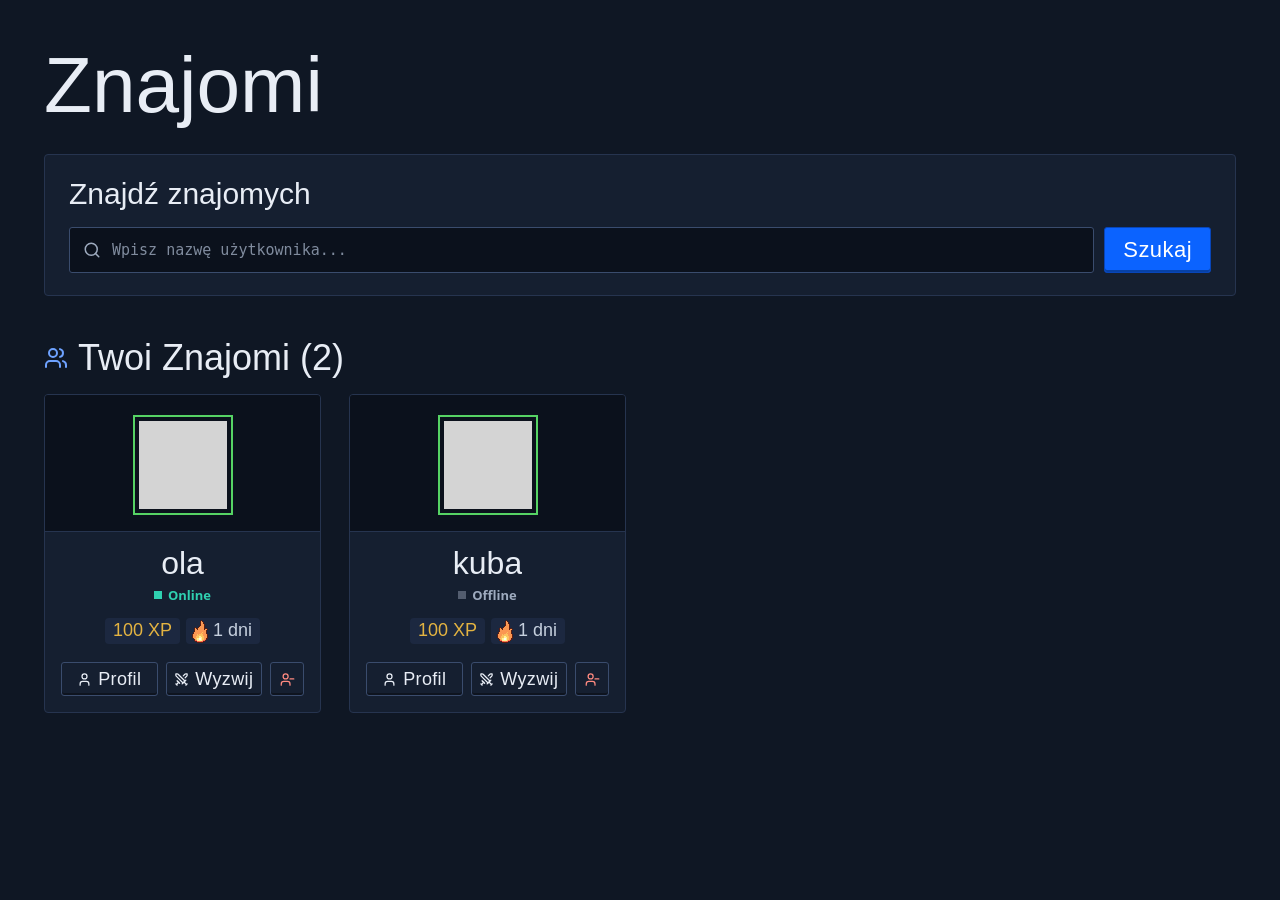
Test: friends page › searches users and sends a friend request
This screenshot has width=1280, height=900.
Type "no" into the field with placeholder "Wpisz nazwę użytkownika..." at point(582, 250), box [69, 228, 1094, 274]
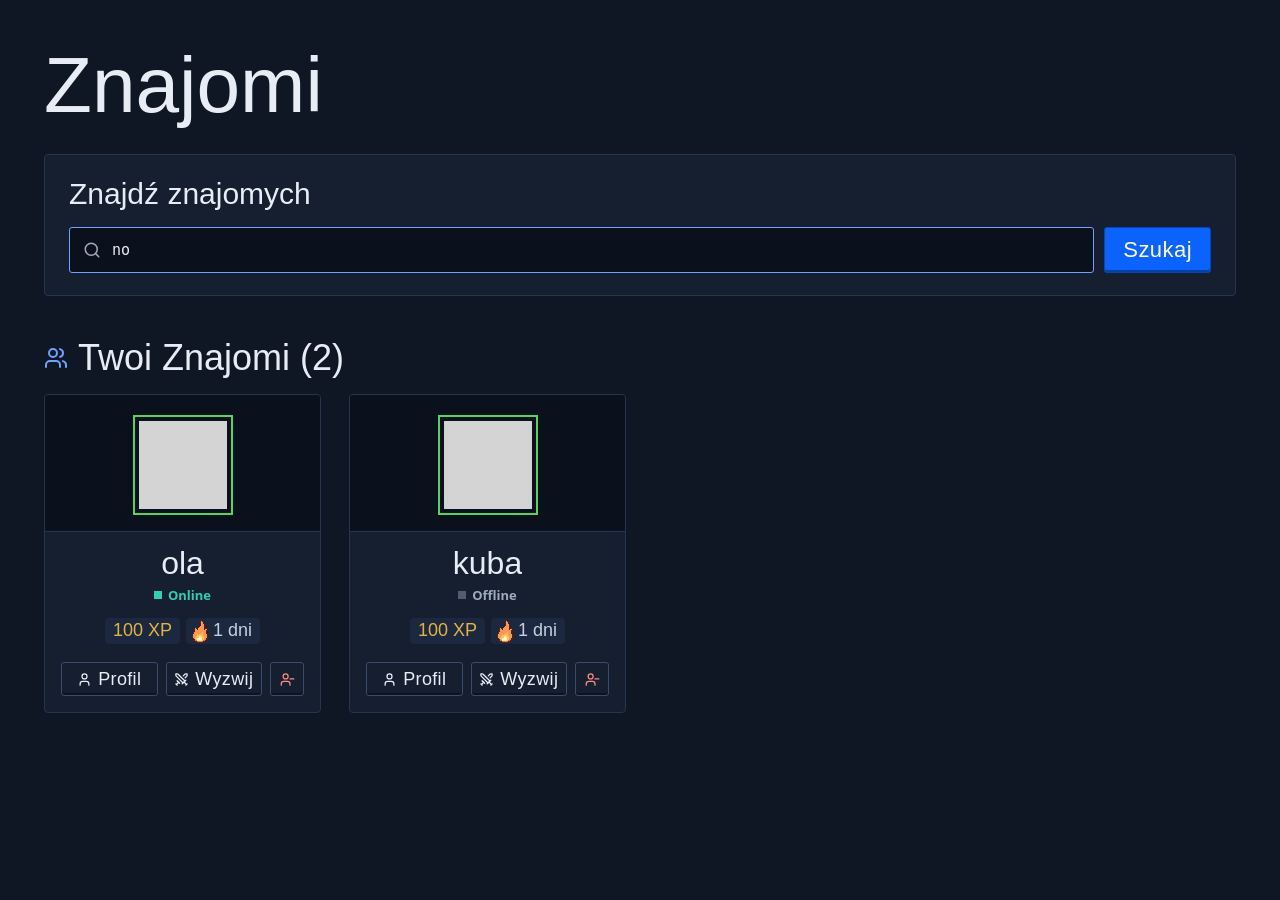
Click the button "Szukaj" at point(1158, 250), box [1104, 228, 1211, 274]
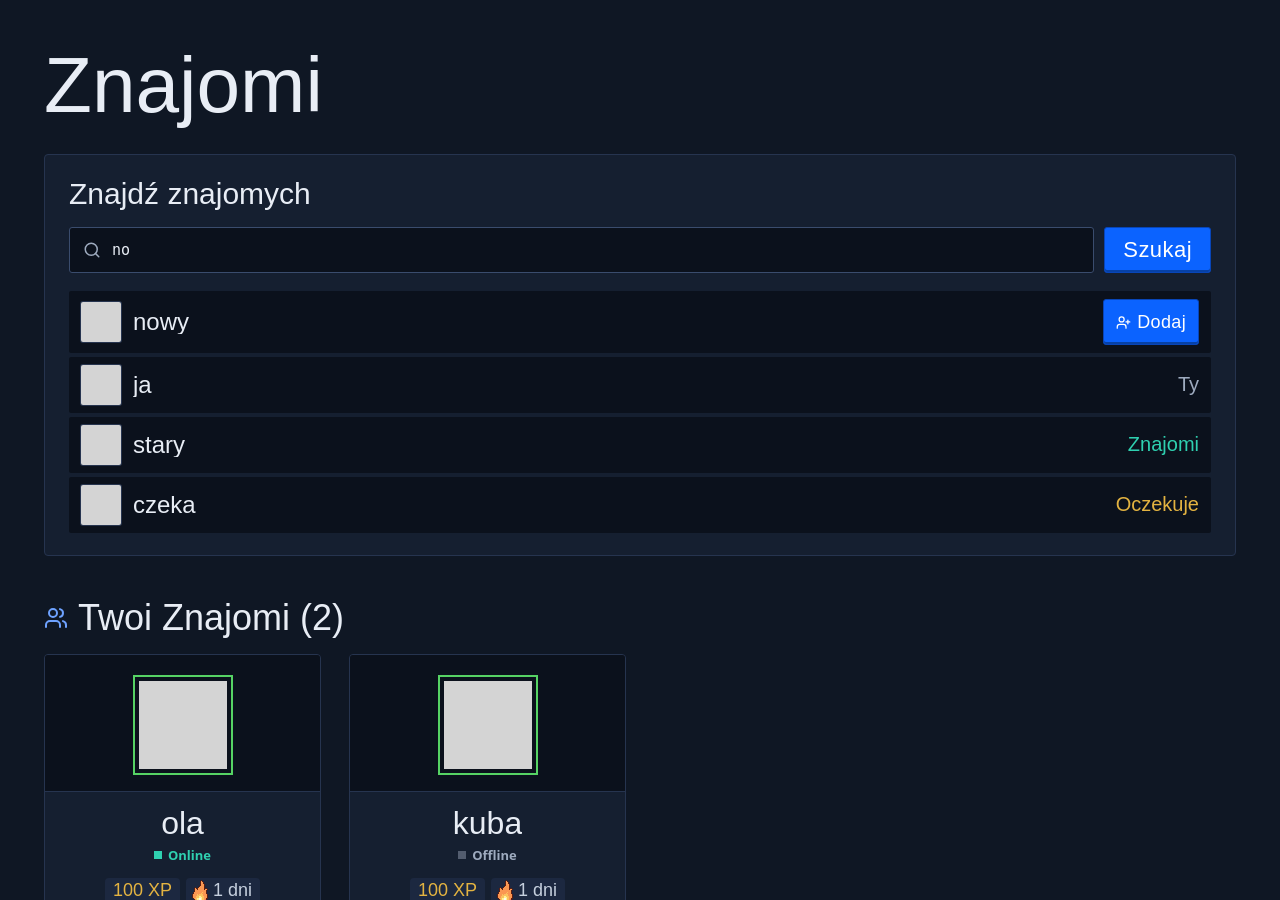
Click the button "Dodaj" at point(1151, 322), box [1103, 300, 1199, 346]
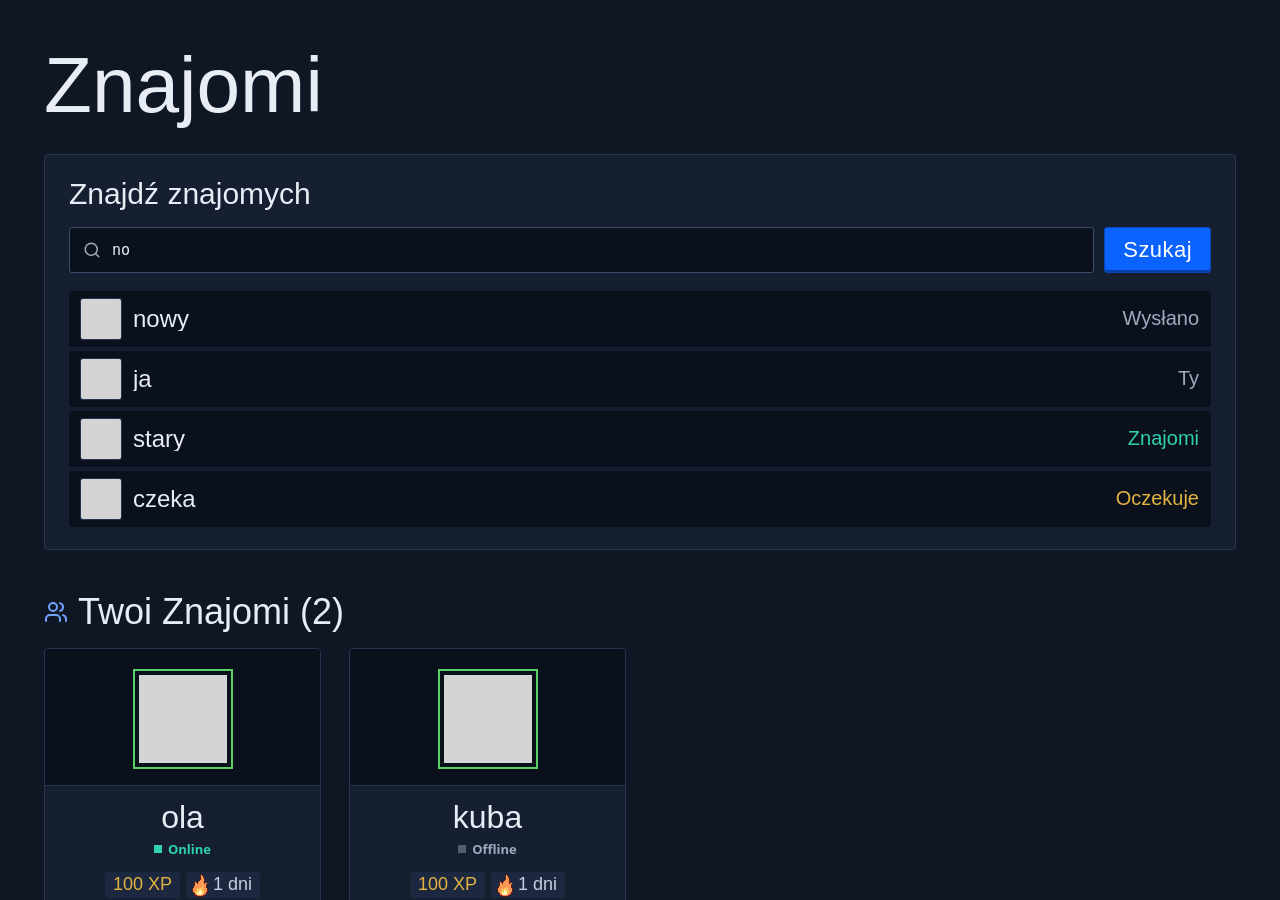
Expected: the text "Ty" is shown, [1178, 367, 1199, 389]
Expected: the text "Oczekuje" is shown, [1116, 487, 1199, 509]
Expected: the text "Wysłano" is shown, [1122, 307, 1199, 329]
